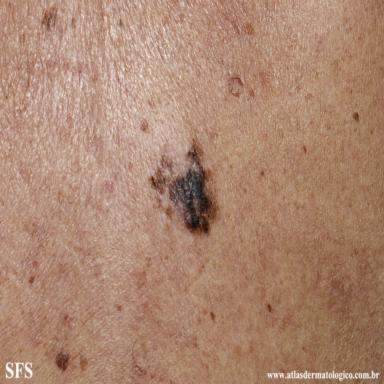Melanoma: (149, 137, 215, 234)
